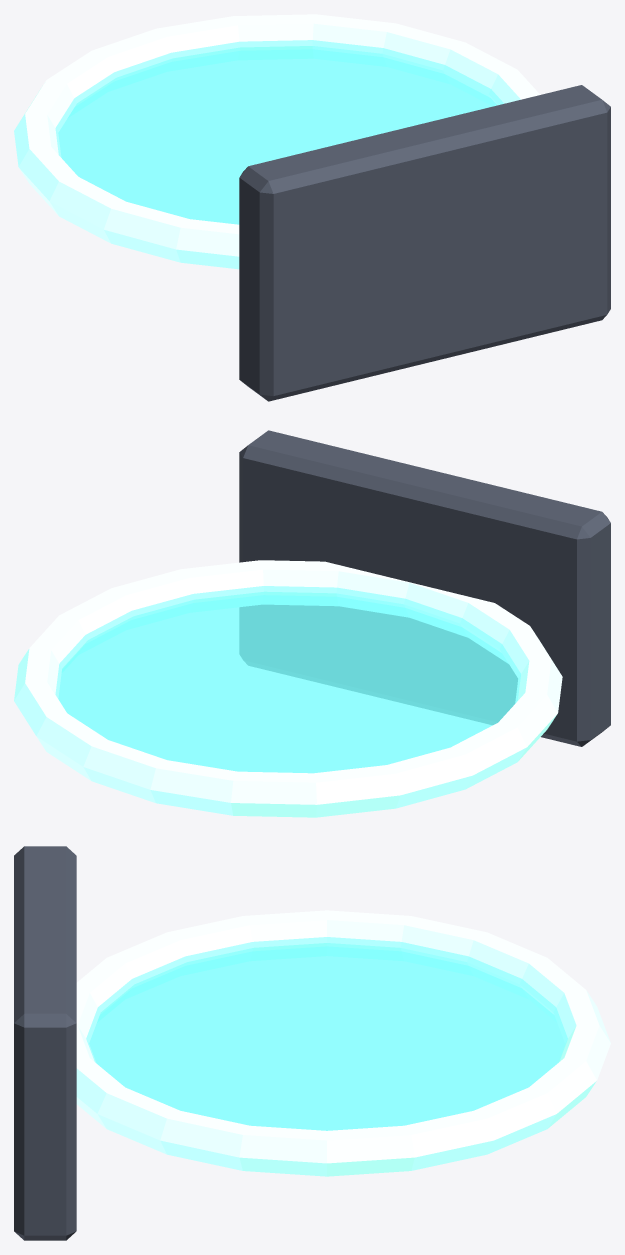
File: platform_finish.glb
3 renders of one model, top to bottom at view 1: azimuth 30°, elevation 25°; view 2: azimuth 150°, elevation 25°; view 3: azimuth 270°, elevation 25°, orthographic. The views are drawn at different scales.
Parts seen in each view (by area): view 1: platform_finish; view 2: platform_finish; view 3: platform_finish.
Boxes of the visible parts, left/top/right/bottom form: platform_finish: left=14, top=14, right=610, bottom=401; platform_finish: left=14, top=430, right=610, bottom=817; platform_finish: left=14, top=846, right=610, bottom=1240.
Bounding box in the file's own units: 2.72 × 1.2 × 2.86.
